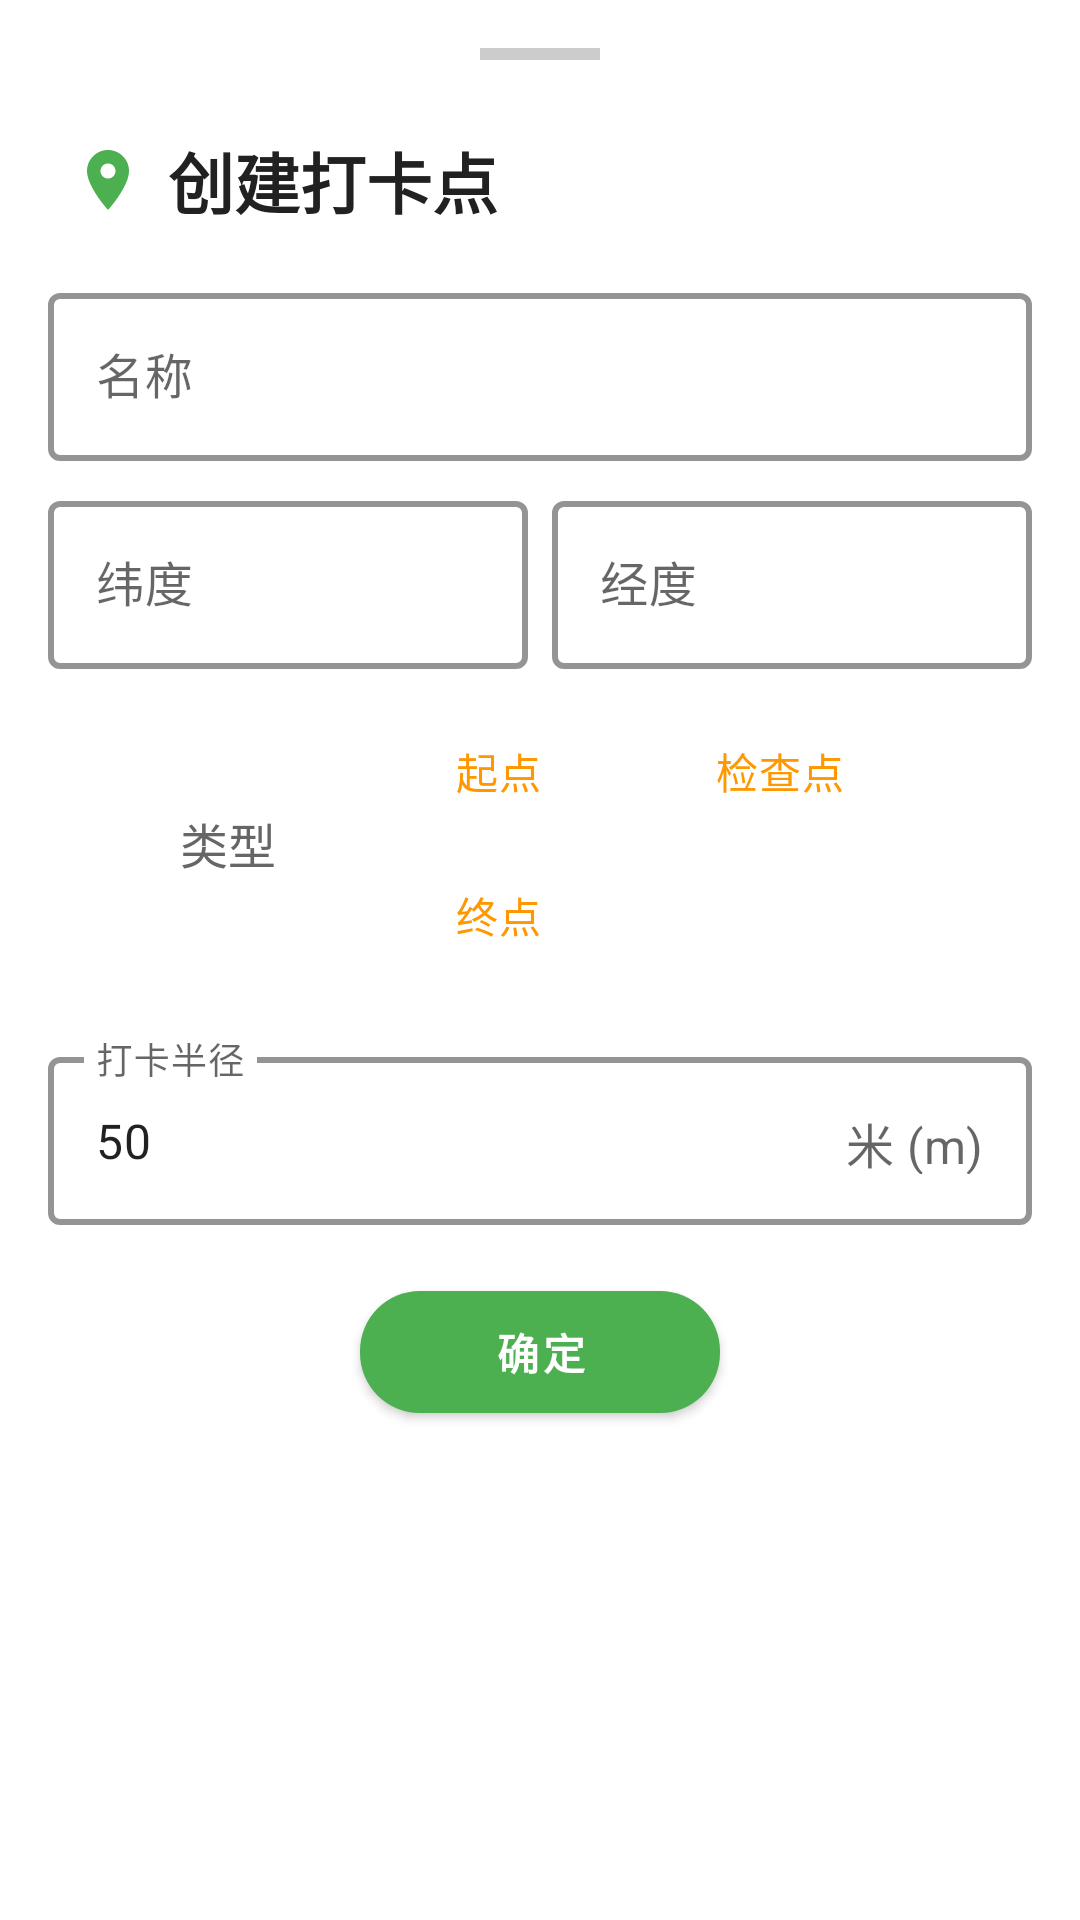

Where icons sit on this 1080 x 1920 app screen, as detection(x1, y1, x2, y2):
location: detection(87, 150, 129, 210)
